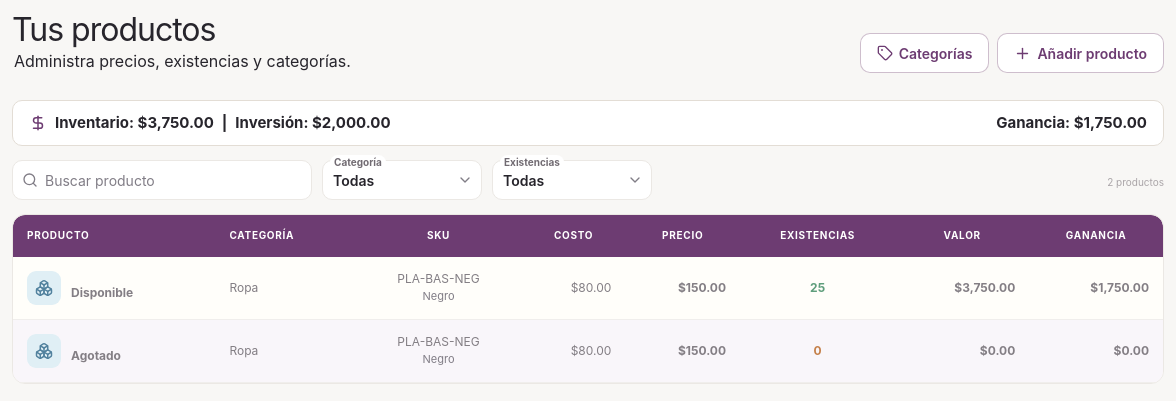
Scenario: ProductsPage › Filtros › debería filtrar productos agotados
Click the dropdown named "Filtrar por existencias" at (572, 180), box 492,160 -> 652,200
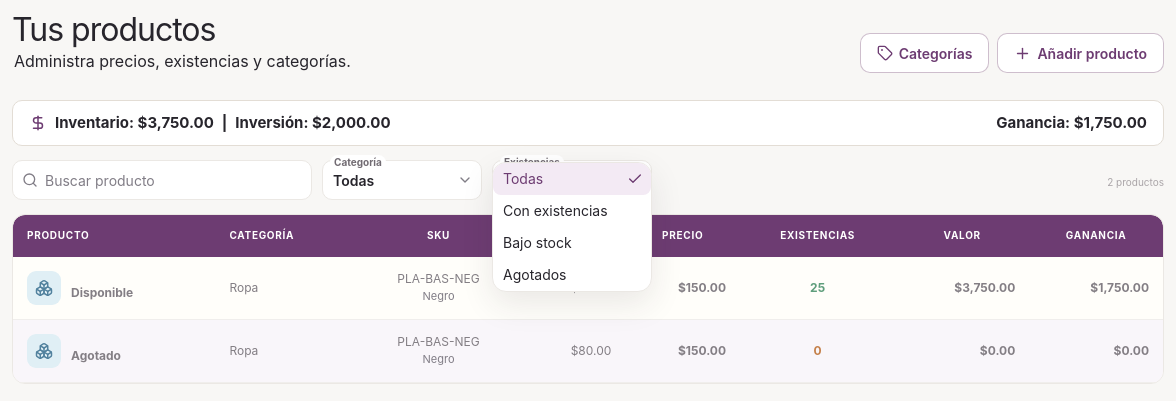
Click the option "Agotados" at (535, 275), box 503,266 -> 566,283
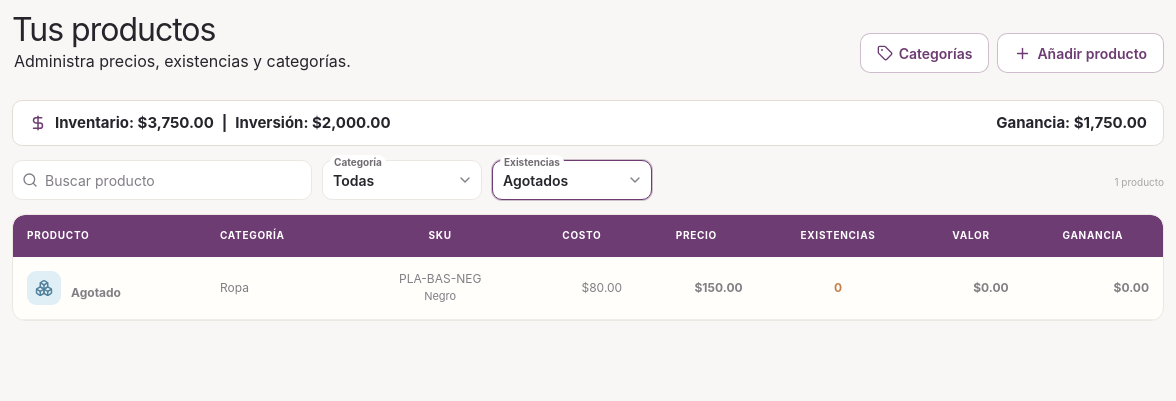
Check: the text "Disponible" is gone
